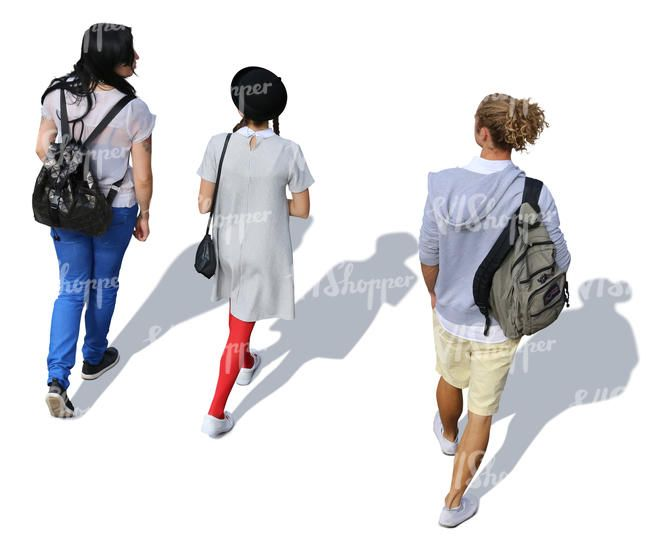Person: (412, 90, 577, 532), (25, 19, 158, 416), (192, 64, 323, 449)
